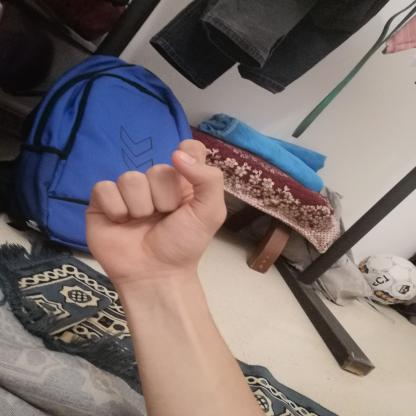FAA: (73, 131, 241, 294)
